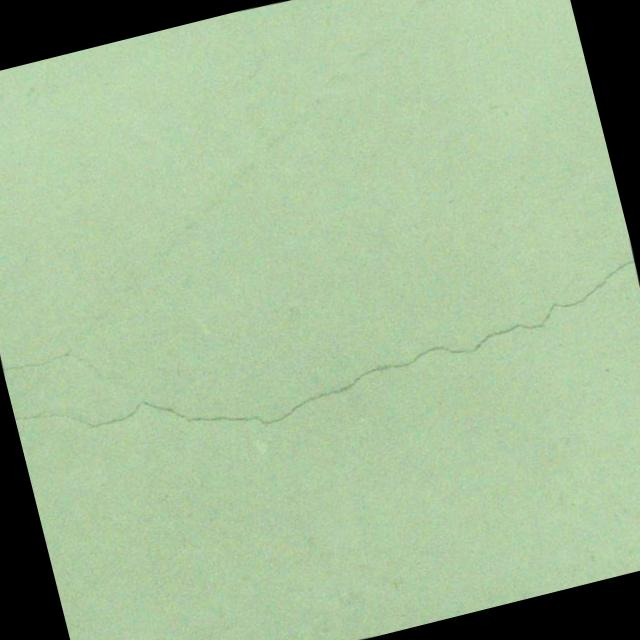crack: (8, 237, 640, 514), (1, 333, 132, 410), (633, 320, 640, 331)
